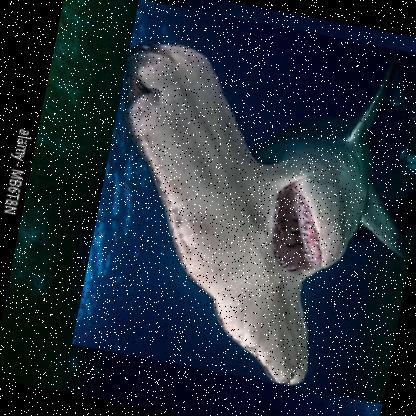hammerhead_Shark: (70, 0, 415, 404)
